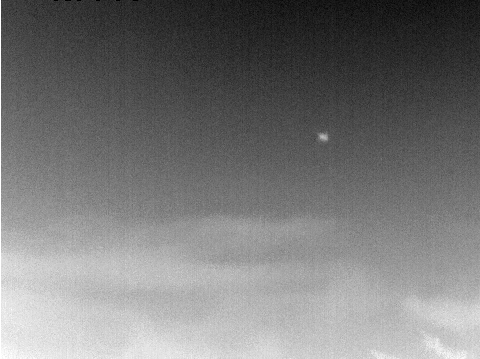dim target: (318, 133, 329, 142)
